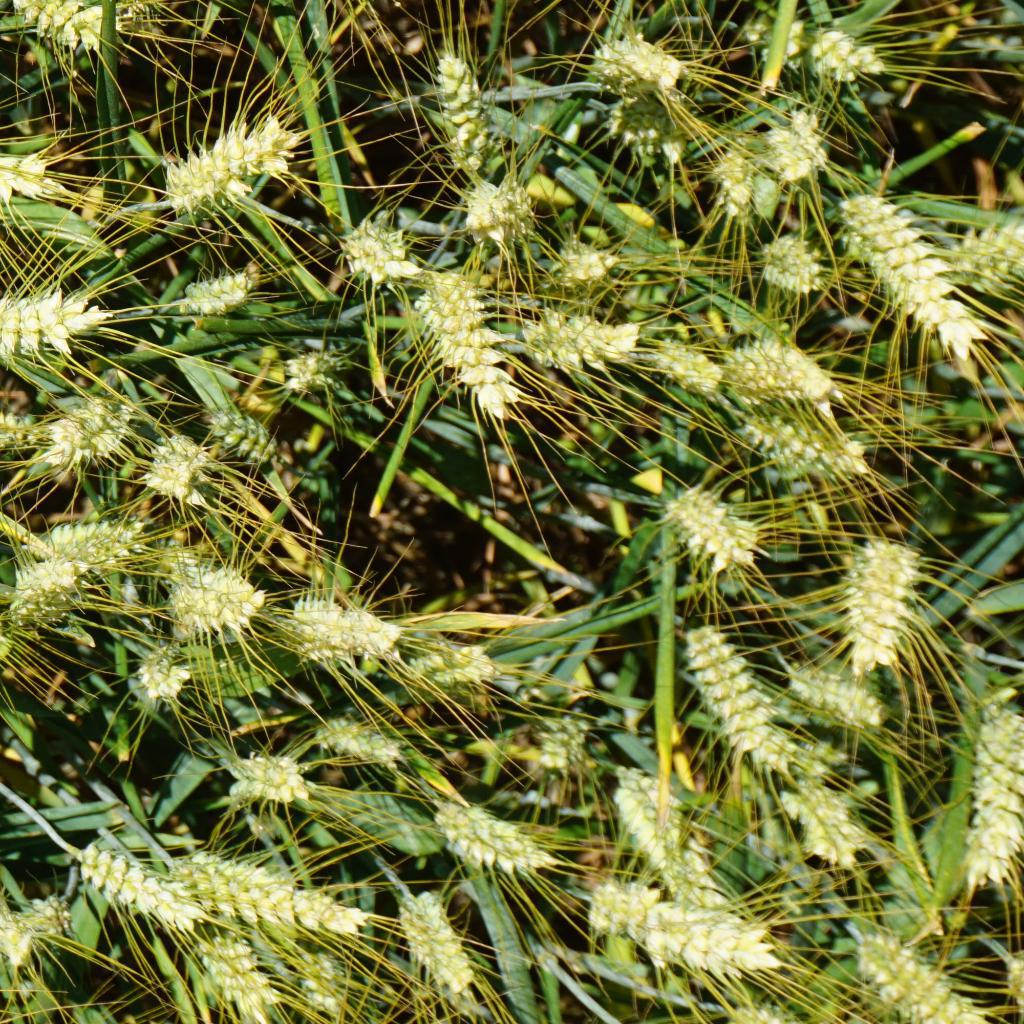0-0: (837, 192, 978, 351), (570, 863, 759, 978), (153, 843, 358, 941), (158, 112, 301, 234), (418, 270, 531, 413), (739, 398, 892, 496), (691, 618, 795, 759), (68, 828, 201, 937), (604, 768, 716, 891), (832, 524, 918, 674), (950, 699, 1024, 865), (428, 790, 561, 879), (656, 472, 769, 570), (853, 930, 968, 1024), (709, 331, 836, 406), (428, 58, 506, 180), (0, 281, 113, 365), (523, 303, 641, 382), (389, 638, 502, 719), (783, 771, 874, 870), (295, 598, 425, 664), (280, 939, 380, 1024), (403, 899, 479, 1008), (763, 16, 876, 89), (777, 651, 880, 731), (193, 930, 283, 1020), (163, 556, 259, 634), (590, 31, 694, 101), (224, 746, 317, 819), (14, 0, 119, 59), (951, 224, 1024, 307), (312, 708, 411, 769), (462, 182, 544, 254), (603, 93, 679, 166), (271, 344, 348, 413), (711, 132, 768, 224), (758, 112, 832, 182), (152, 435, 228, 503), (533, 702, 594, 786), (0, 111, 47, 216), (59, 400, 128, 464), (56, 516, 140, 567), (16, 553, 80, 618), (651, 324, 722, 382), (129, 644, 190, 708), (760, 233, 820, 298), (213, 406, 274, 466), (183, 268, 252, 321), (561, 243, 612, 300), (349, 228, 405, 278), (24, 888, 69, 944), (0, 899, 36, 963), (0, 402, 34, 459), (0, 571, 16, 652)
